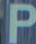Parking: (7, 1, 34, 43)
